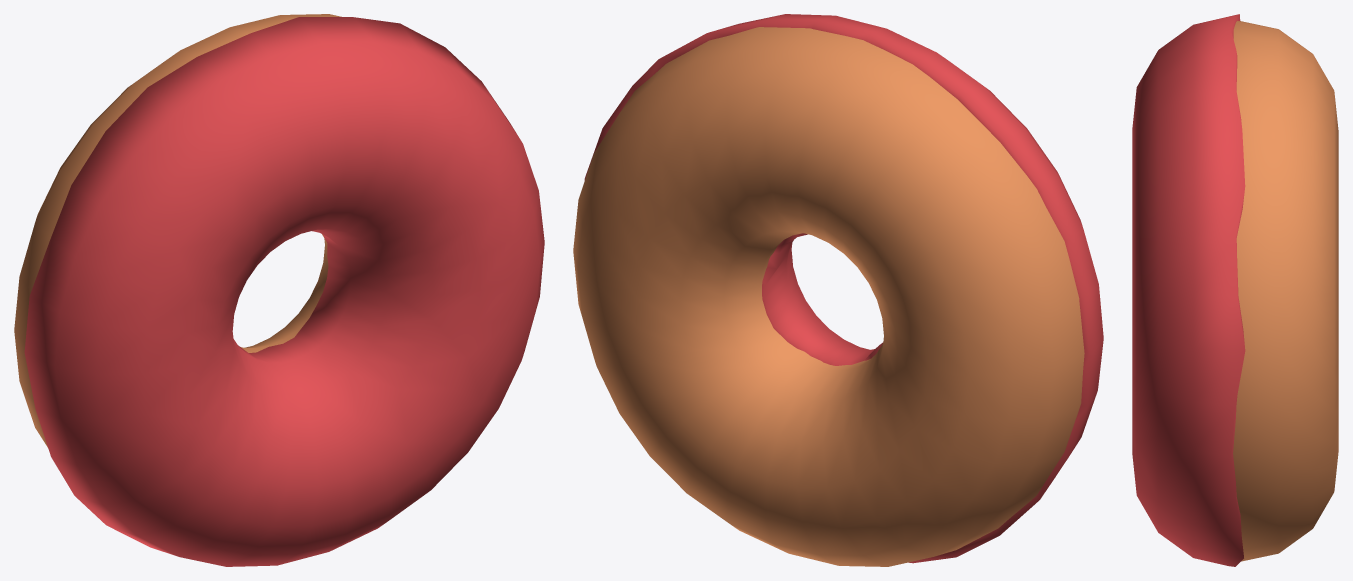
File: Donut.fbx
3 views of the same model, side by side, from view 1: azimuth 30°, elevation 25°; view 2: azimuth 150°, elevation 25°; view 3: azimuth 270°, elevation 25° (orthographic). The views are drawn at different scales.
Parts seen in each view (by area): view 1: Donut2; view 2: Donut2; view 3: Donut2.
Part boxes in pixels (box(x1,y1,x2,y2)): Donut2: box(14, 14, 544, 566); Donut2: box(573, 14, 1103, 566); Donut2: box(1132, 14, 1338, 566).
Size of the model in its own units: 105 by 105 by 39.17.
